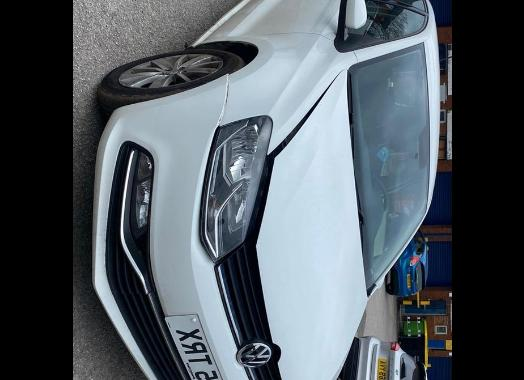Broken part: (90, 72, 249, 380), (240, 70, 338, 380), (104, 141, 191, 380)
